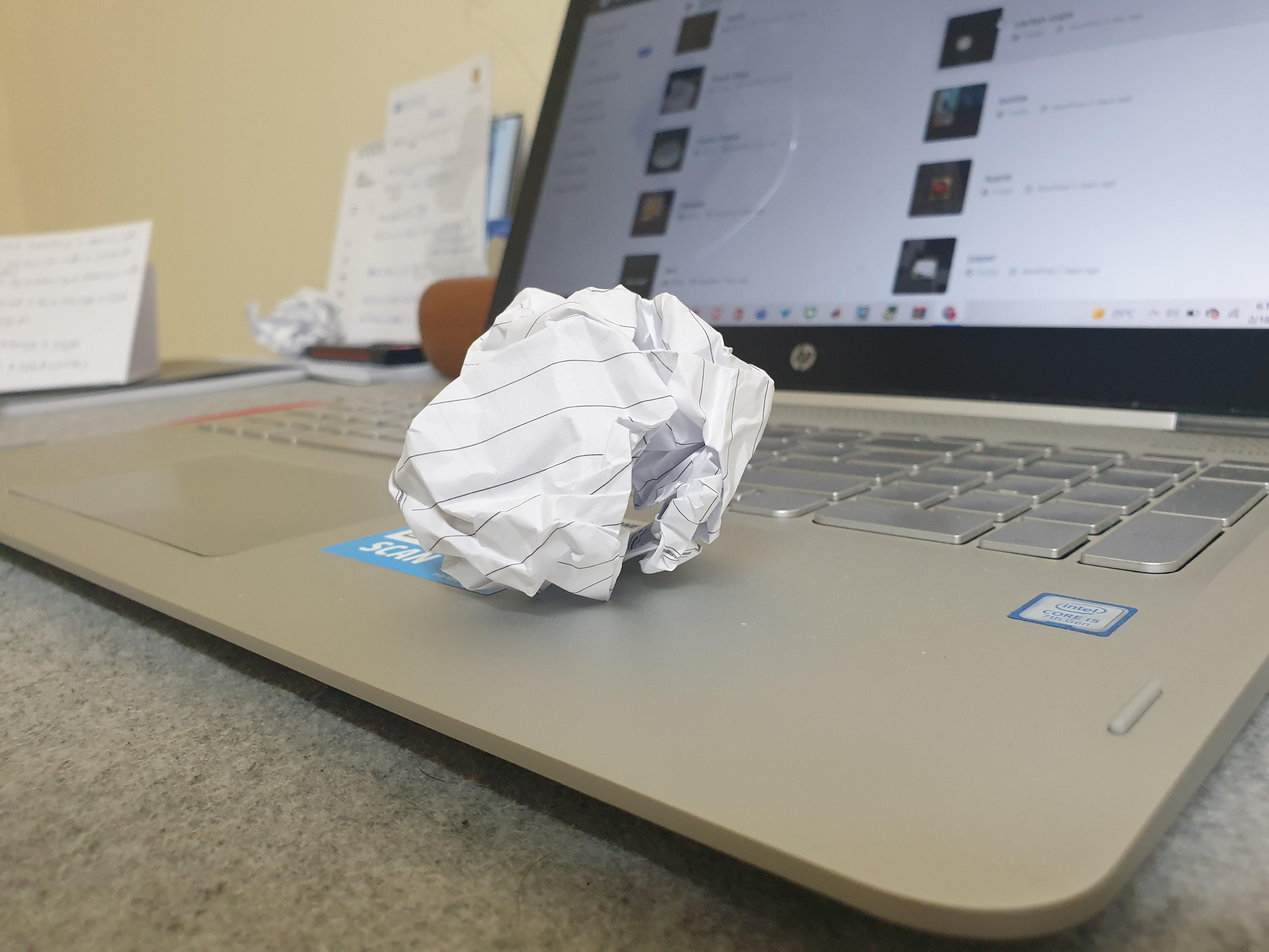paper: (377, 260, 800, 646)
